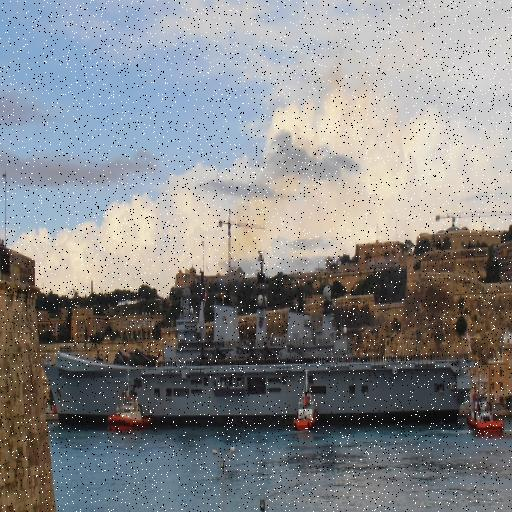Portanaves: (41, 268, 476, 433)
